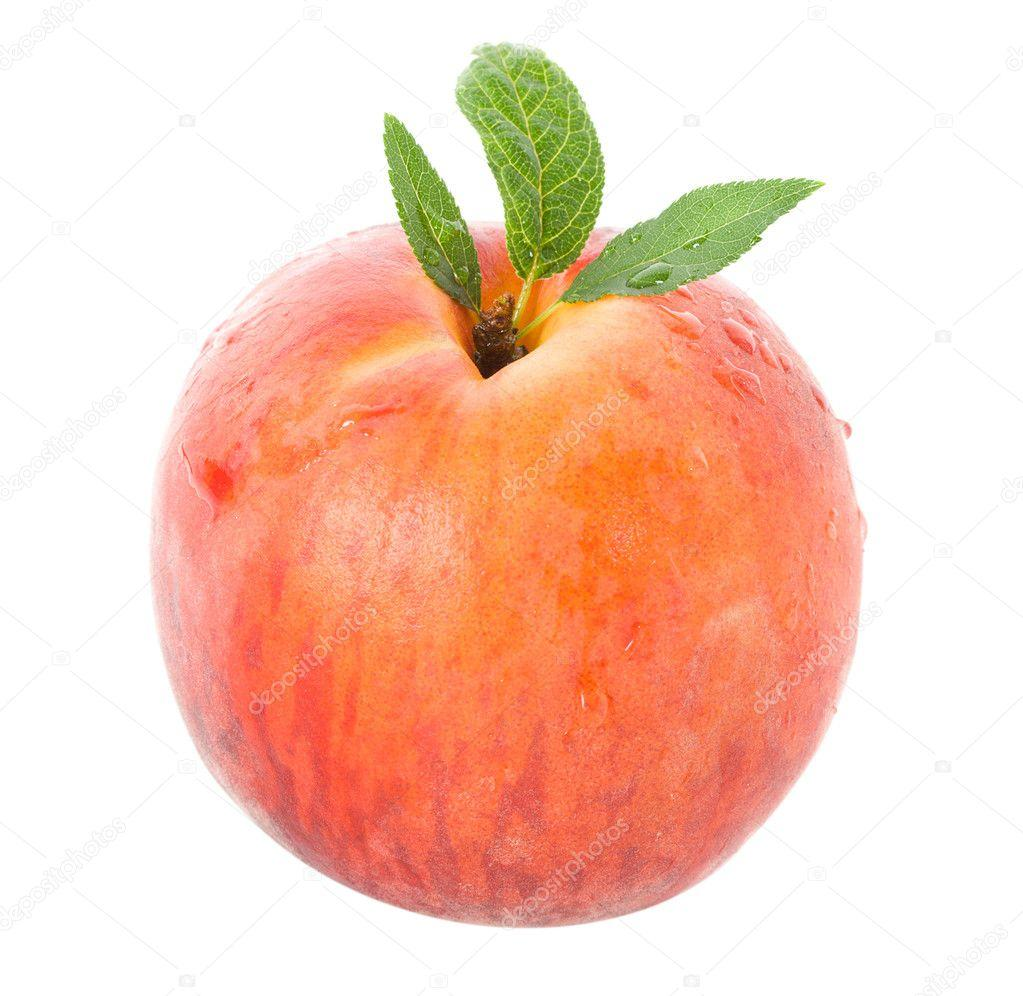Peach leaf: (538, 160, 849, 337), (453, 28, 587, 295), (365, 95, 503, 341)
